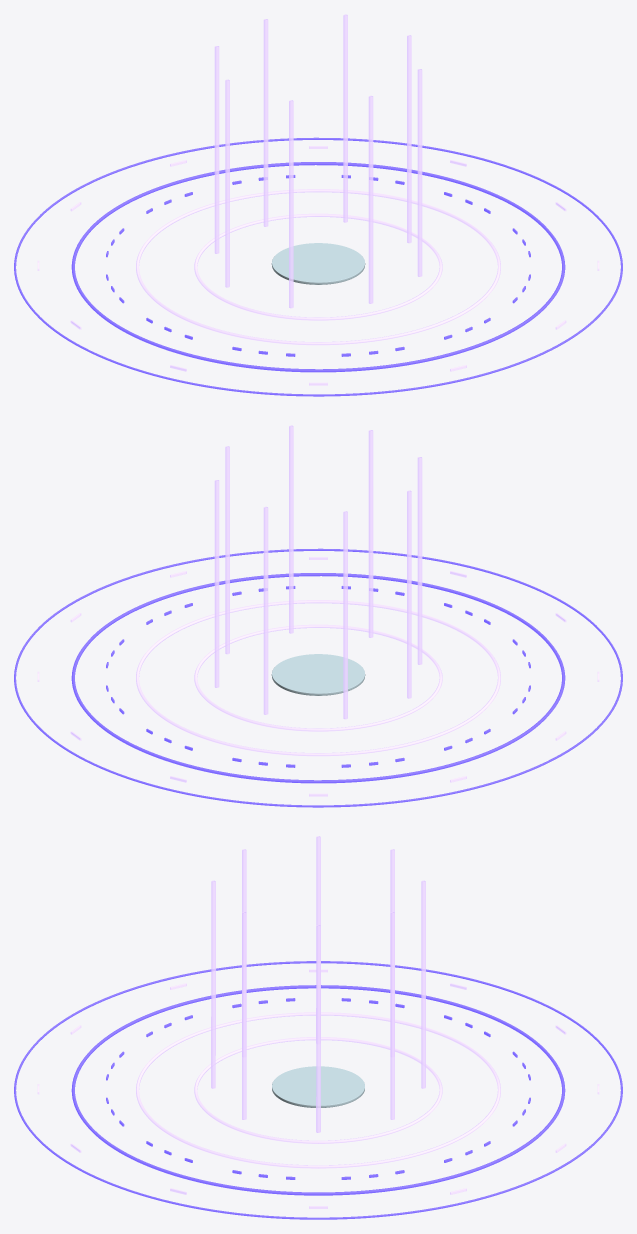
The model's file is TeleportAnchorProjection_Reference.fbx.
3 renders of one model, top to bottom at view 1: azimuth 30°, elevation 25°; view 2: azimuth 150°, elevation 25°; view 3: azimuth 270°, elevation 25°, orthographic.
Visible parts, largest first — view 1: AnchorProjection_ProjectedRing_02, AnchorProjection_ProjectedRing_03, AnchorProjection_ProjectedRing_01, AnchorProjection_CenterPortalGlow_Disc, AnchorProjection_ProjectedRing_00, AnchorProjection_VerticalLightColumn_06, AnchorProjection_VerticalLightColumn_03, AnchorProjection_VerticalLightColumn_07, AnchorProjection_VerticalLightColumn_02, AnchorProjection_VerticalLightColumn_00, AnchorProjection_VerticalLightColumn_01, AnchorProjection_VerticalLightColumn_04 (+1 smaller); view 2: AnchorProjection_ProjectedRing_02, AnchorProjection_ProjectedRing_03, AnchorProjection_ProjectedRing_01, AnchorProjection_CenterPortalGlow_Disc, AnchorProjection_ProjectedRing_00, AnchorProjection_VerticalLightColumn_02, AnchorProjection_VerticalLightColumn_01, AnchorProjection_VerticalLightColumn_05, AnchorProjection_VerticalLightColumn_06, AnchorProjection_VerticalLightColumn_00, AnchorProjection_VerticalLightColumn_03, AnchorProjection_VerticalLightColumn_04 (+1 smaller); view 3: AnchorProjection_ProjectedRing_02, AnchorProjection_ProjectedRing_03, AnchorProjection_ProjectedRing_01, AnchorProjection_CenterPortalGlow_Disc, AnchorProjection_ProjectedRing_00, AnchorProjection_VerticalLightColumn_02, AnchorProjection_VerticalLightColumn_06, AnchorProjection_VerticalLightColumn_00, AnchorProjection_VerticalLightColumn_01, AnchorProjection_VerticalLightColumn_07.
Boxes of the visible parts, x1=… form: AnchorProjection_ProjectedRing_02: x1=71, y1=162, x2=565, y2=372; AnchorProjection_ProjectedRing_03: x1=14, y1=137, x2=622, y2=396; AnchorProjection_ProjectedRing_01: x1=136, y1=189, x2=500, y2=345; AnchorProjection_CenterPortalGlow_Disc: x1=271, y1=243, x2=365, y2=284; AnchorProjection_ProjectedRing_00: x1=194, y1=213, x2=442, y2=320; AnchorProjection_VerticalLightColumn_06: x1=368, y1=95, x2=373, y2=303; AnchorProjection_VerticalLightColumn_03: x1=214, y1=46, x2=219, y2=253; AnchorProjection_VerticalLightColumn_07: x1=417, y1=69, x2=422, y2=276; AnchorProjection_VerticalLightColumn_02: x1=263, y1=19, x2=268, y2=226; AnchorProjection_VerticalLightColumn_00: x1=407, y1=35, x2=411, y2=243; AnchorProjection_VerticalLightColumn_01: x1=343, y1=14, x2=347, y2=222; AnchorProjection_VerticalLightColumn_04: x1=225, y1=79, x2=229, y2=287; AnchorProjection_ProjectedRing_02: x1=71, y1=573, x2=565, y2=783; AnchorProjection_ProjectedRing_03: x1=14, y1=548, x2=622, y2=807; AnchorProjection_ProjectedRing_01: x1=136, y1=600, x2=500, y2=756; AnchorProjection_CenterPortalGlow_Disc: x1=271, y1=654, x2=365, y2=695; AnchorProjection_ProjectedRing_00: x1=194, y1=624, x2=442, y2=731; AnchorProjection_VerticalLightColumn_02: x1=263, y1=506, x2=268, y2=714; AnchorProjection_VerticalLightColumn_01: x1=214, y1=480, x2=219, y2=687; AnchorProjection_VerticalLightColumn_05: x1=417, y1=457, x2=422, y2=664; AnchorProjection_VerticalLightColumn_06: x1=368, y1=430, x2=373, y2=637; AnchorProjection_VerticalLightColumn_00: x1=225, y1=446, x2=229, y2=654; AnchorProjection_VerticalLightColumn_03: x1=343, y1=511, x2=347, y2=719; AnchorProjection_VerticalLightColumn_04: x1=407, y1=490, x2=411, y2=698; AnchorProjection_ProjectedRing_02: x1=71, y1=985, x2=565, y2=1195; AnchorProjection_ProjectedRing_03: x1=14, y1=961, x2=622, y2=1219; AnchorProjection_ProjectedRing_01: x1=136, y1=1012, x2=500, y2=1168; AnchorProjection_CenterPortalGlow_Disc: x1=272, y1=1066, x2=364, y2=1107; AnchorProjection_ProjectedRing_00: x1=194, y1=1037, x2=442, y2=1143; AnchorProjection_VerticalLightColumn_02: x1=421, y1=880, x2=425, y2=1088; AnchorProjection_VerticalLightColumn_06: x1=211, y1=880, x2=215, y2=1088; AnchorProjection_VerticalLightColumn_00: x1=316, y1=925, x2=320, y2=1132; AnchorProjection_VerticalLightColumn_01: x1=390, y1=912, x2=394, y2=1119; AnchorProjection_VerticalLightColumn_07: x1=242, y1=912, x2=246, y2=1119.
Bounding box in the file's own units: 209 × 79.57 × 209.
